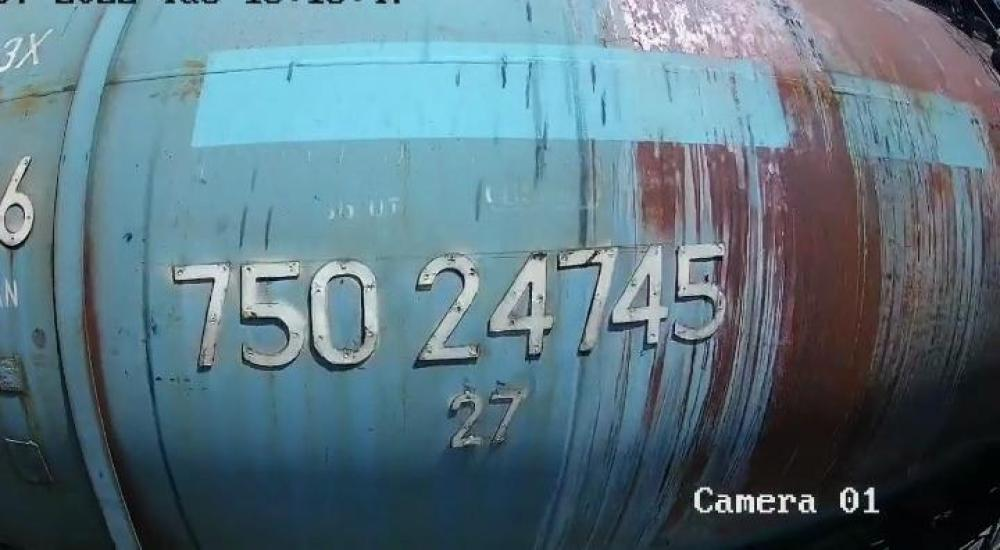Wagon-number: (166, 238, 734, 374)
